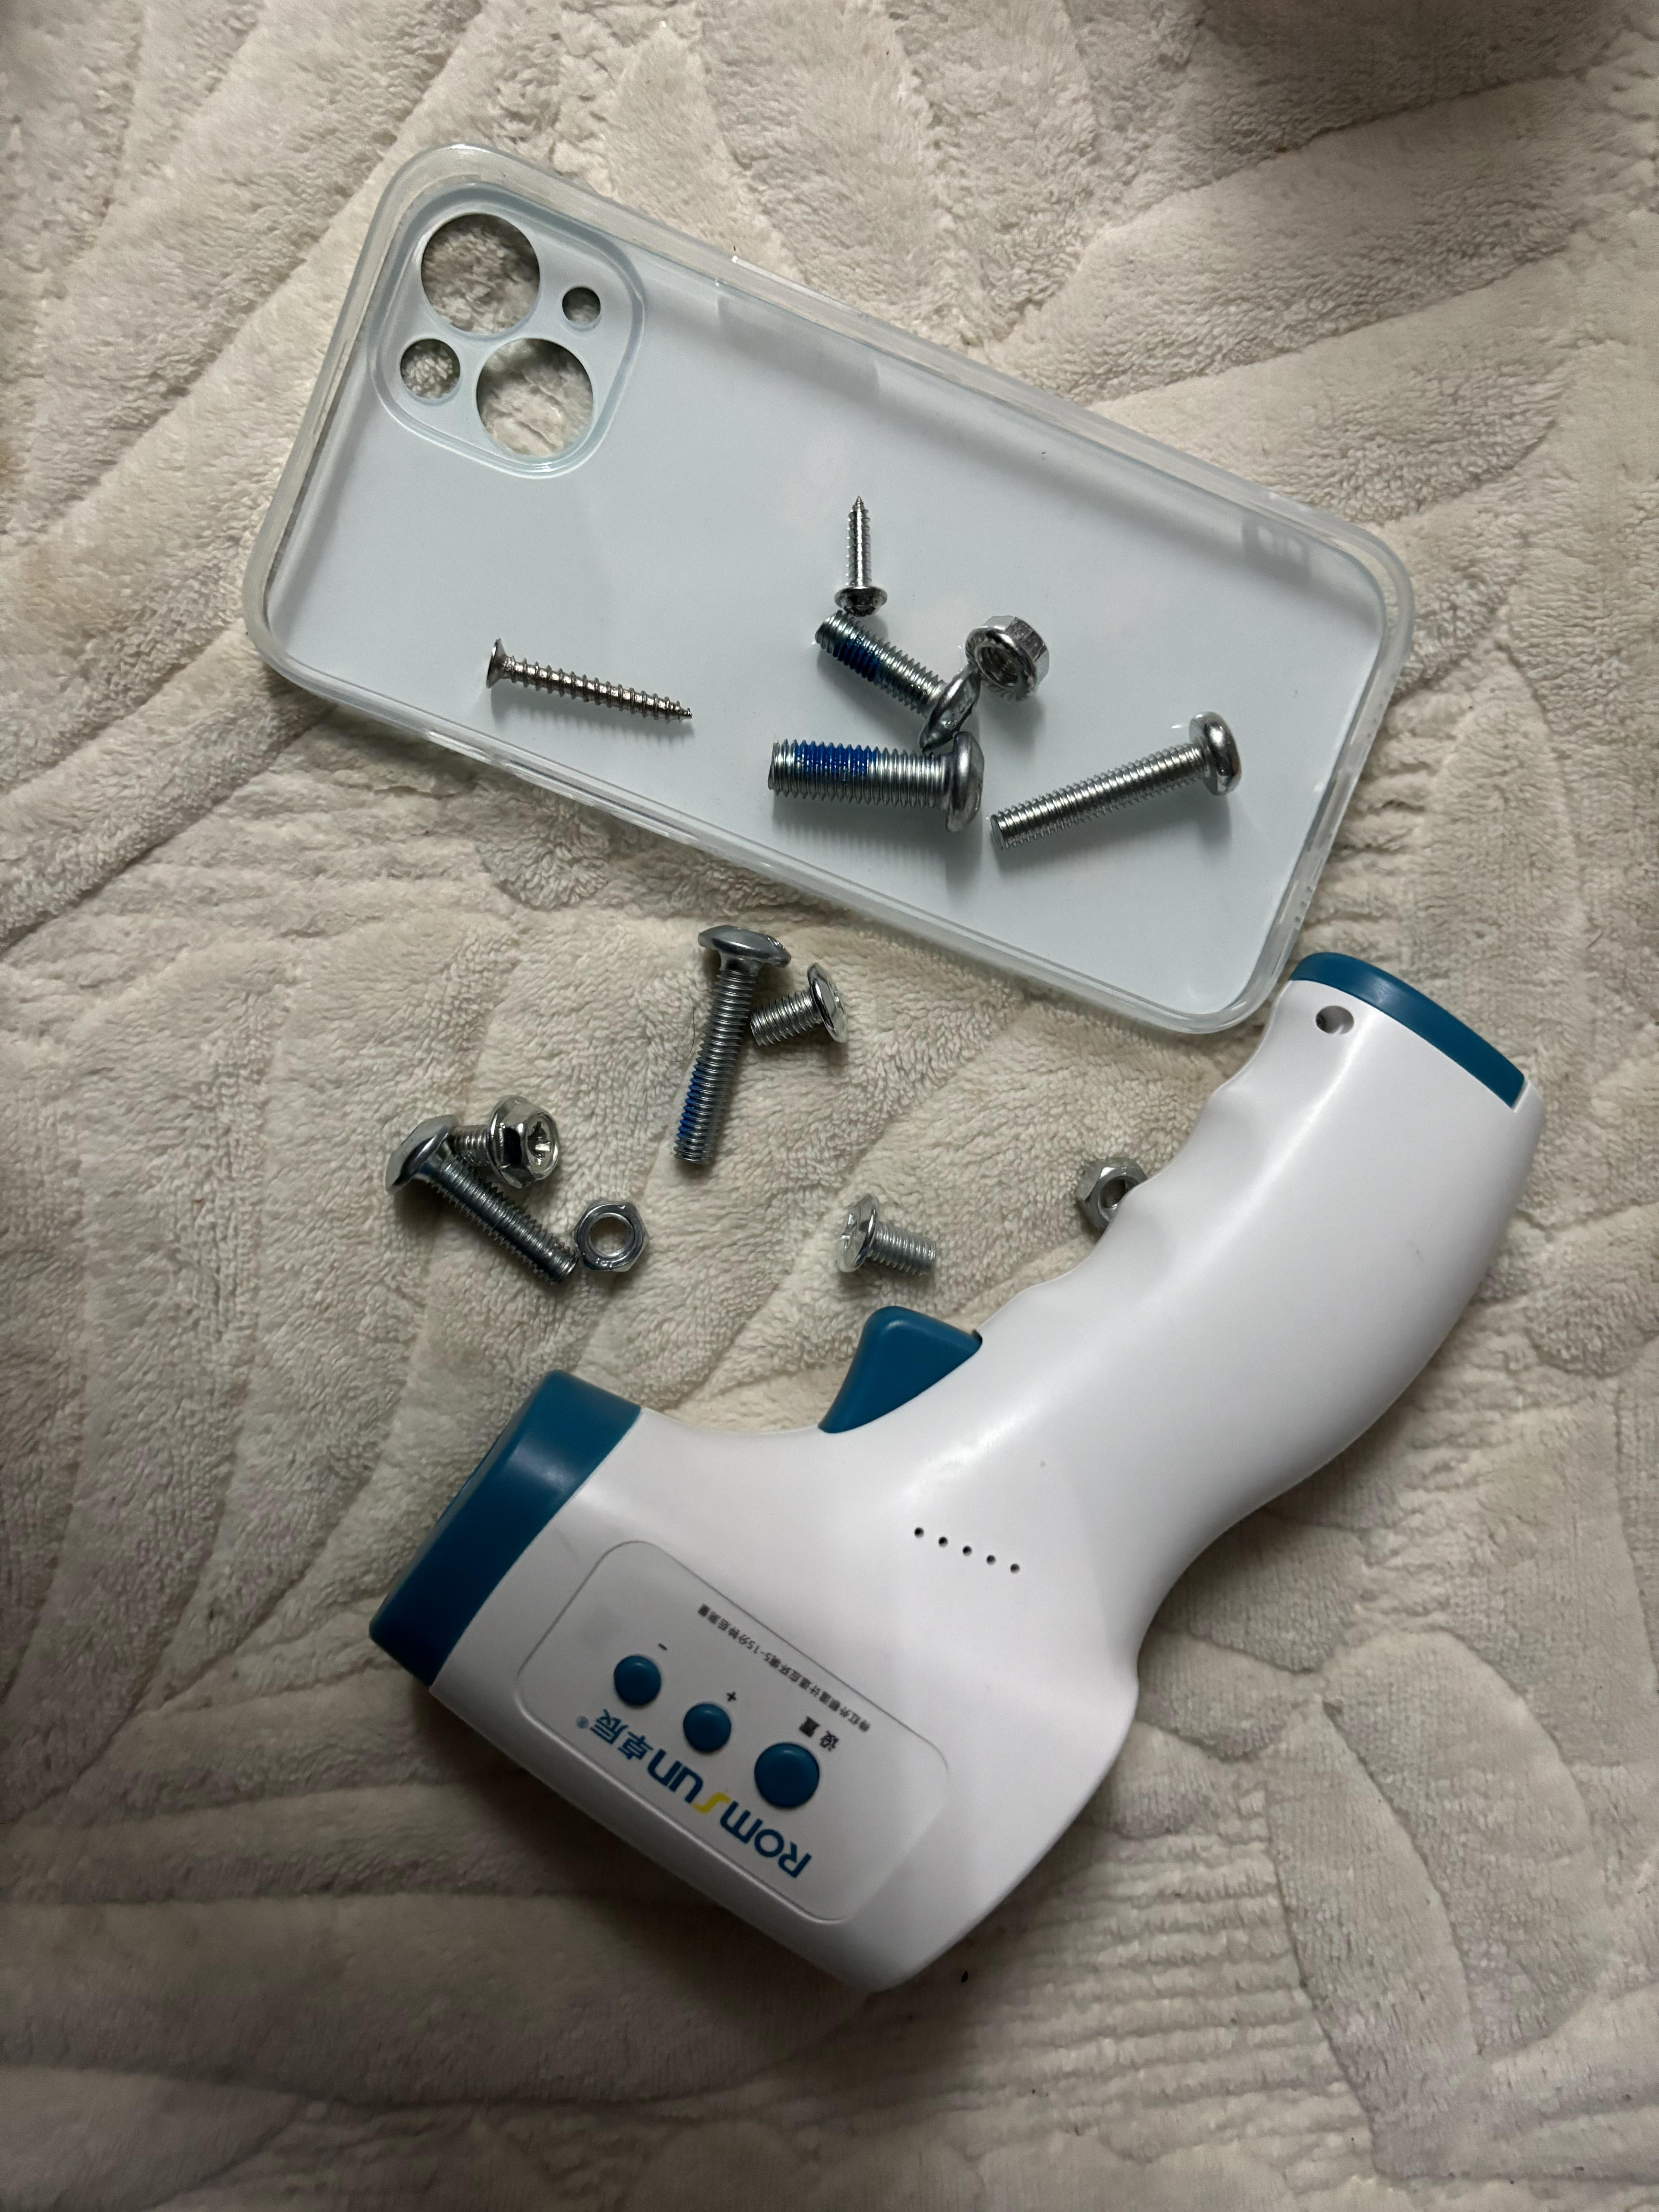Flange nut: (965, 613, 1049, 702)
Hexagon nut: (572, 1200, 648, 1277), (1077, 1155, 1150, 1235)
Round head screw: (990, 711, 1244, 857), (382, 1113, 584, 1289), (671, 921, 791, 1170), (812, 608, 985, 749), (769, 728, 985, 836), (486, 637, 692, 725), (835, 1190, 939, 1277), (746, 963, 847, 1050), (831, 495, 887, 618)
